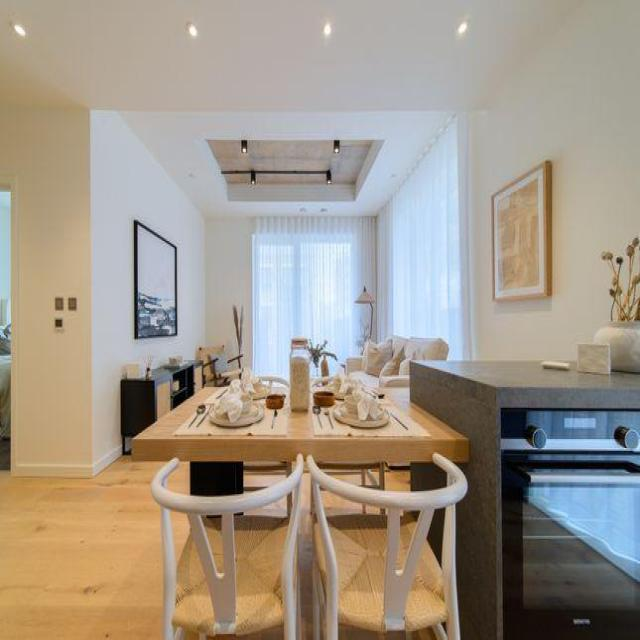Wall: (0, 109, 205, 477), (0, 1, 576, 111), (474, 2, 640, 359), (121, 111, 454, 216), (0, 456, 161, 639), (127, 214, 205, 361), (205, 218, 254, 367), (469, 113, 493, 359), (300, 473, 311, 637), (173, 514, 189, 556), (169, 463, 189, 492), (245, 473, 282, 487), (386, 471, 408, 490), (326, 500, 351, 514), (263, 502, 285, 515)
